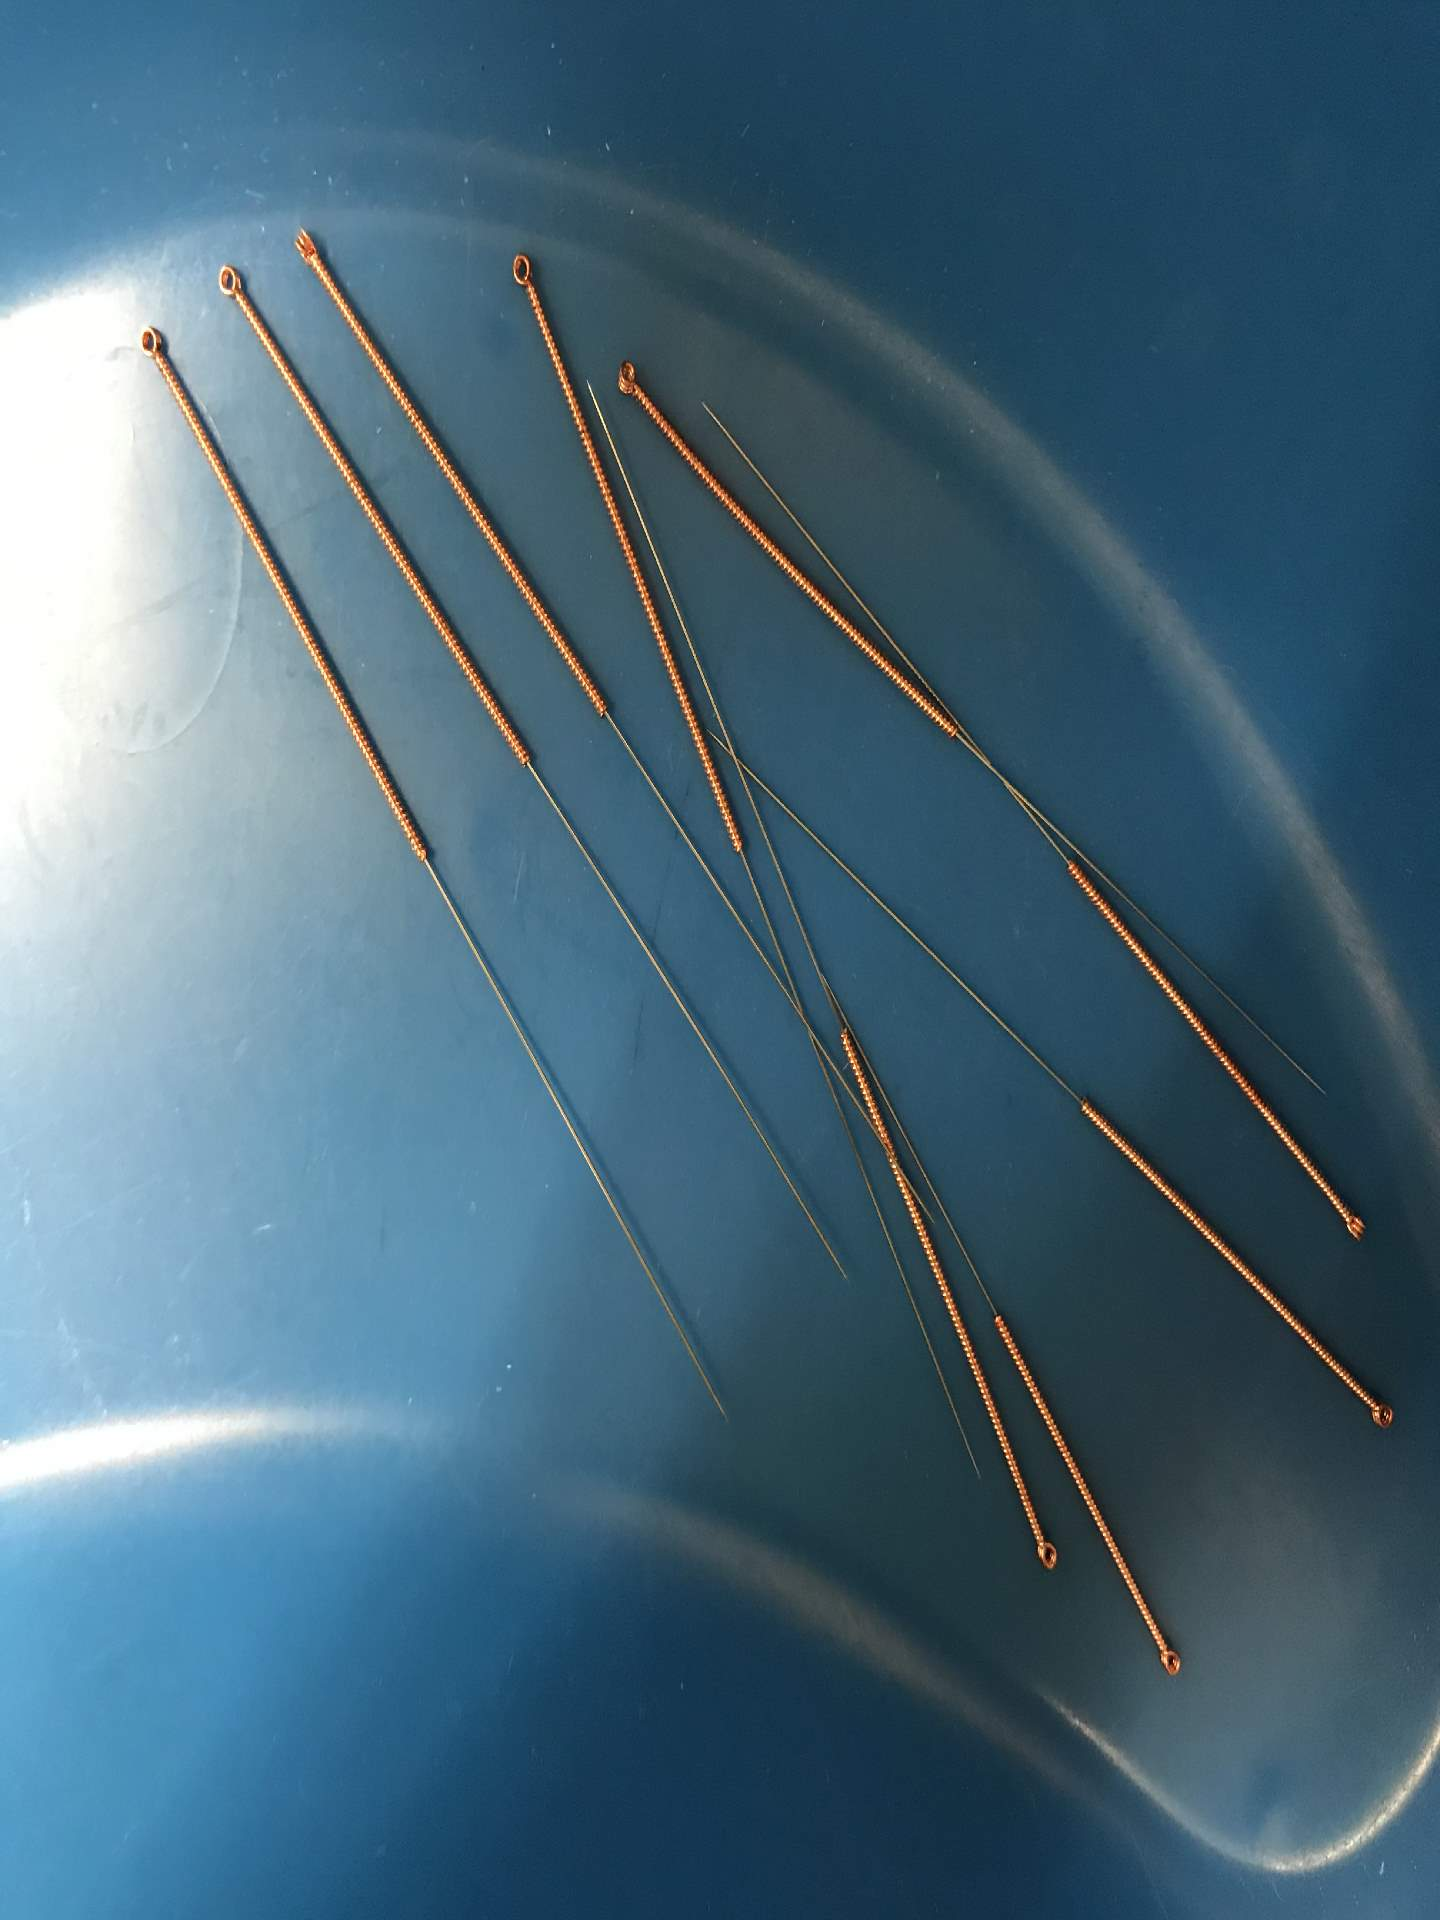needle: (281, 215, 331, 283), (607, 351, 655, 410), (129, 314, 175, 375), (209, 251, 256, 311), (501, 243, 545, 302), (1331, 1194, 1373, 1253), (1357, 1388, 1402, 1439), (1026, 1525, 1069, 1578), (1148, 1634, 1190, 1686)
